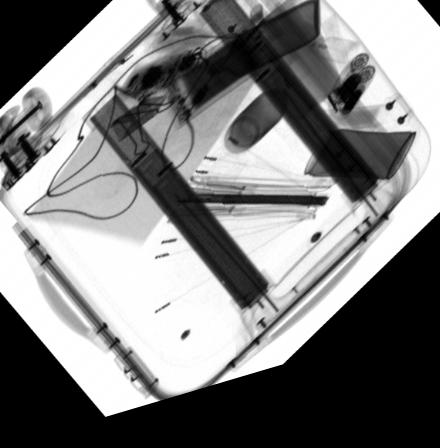Powerbank: (159, 37, 265, 139)
